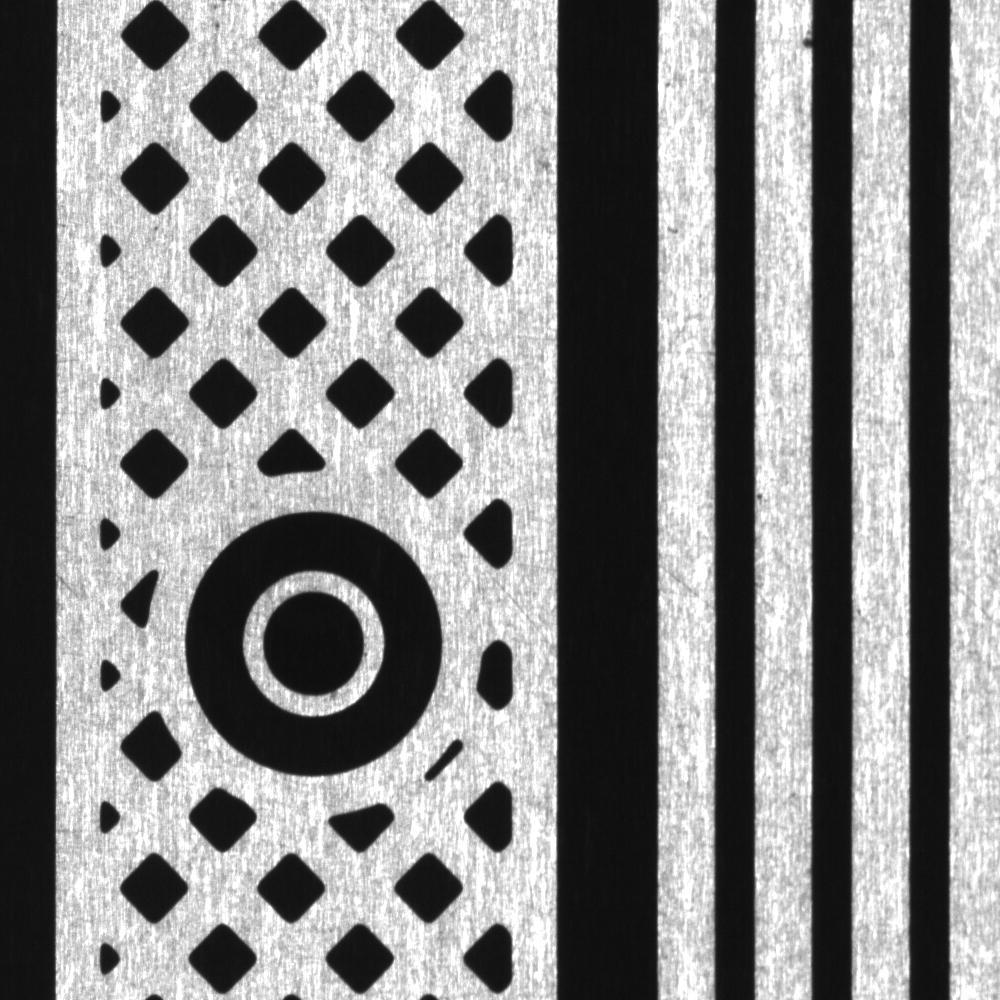Etching: (792, 15, 819, 63), (663, 217, 682, 244)
Pinhole: (753, 484, 777, 507)
Scar: (475, 557, 559, 651), (655, 536, 717, 629), (755, 335, 818, 375), (954, 581, 998, 630), (660, 333, 721, 364)
